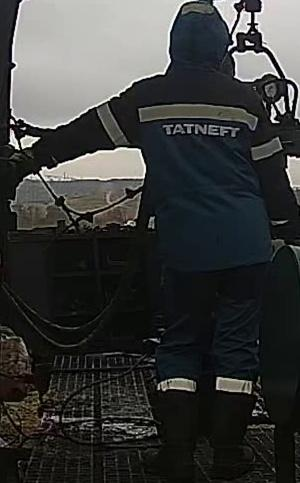gloves: (0, 141, 56, 200)
vest: (95, 70, 297, 271)
